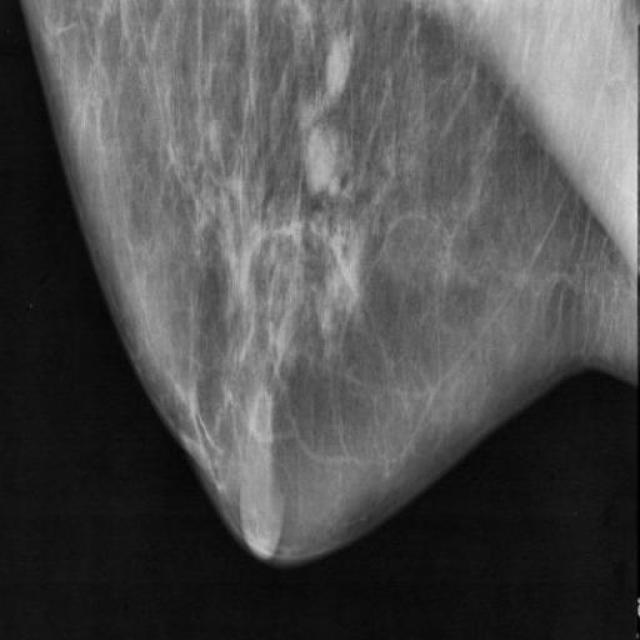cancer: (303, 6, 367, 138), (290, 88, 352, 221)
